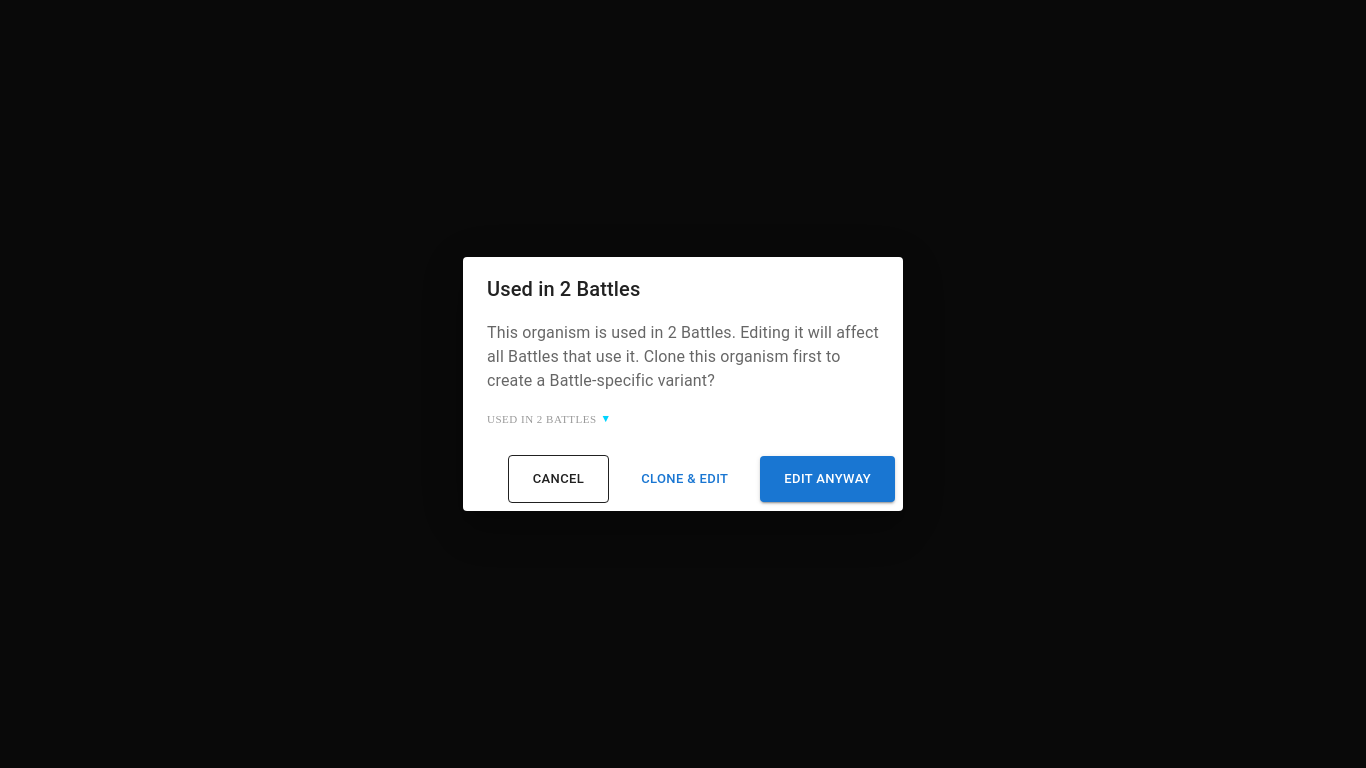
Test case: OrganismInUseDialog — the expandable count (Story 4.24, AC6, FR-1.7, M7) › library: the battle disclosure lists the names behind N, read-only
This screenshot has width=1366, height=768.
Click the button "Used in 2 Battles ▾" at coordinates (548, 419), box [487,412,609,425]
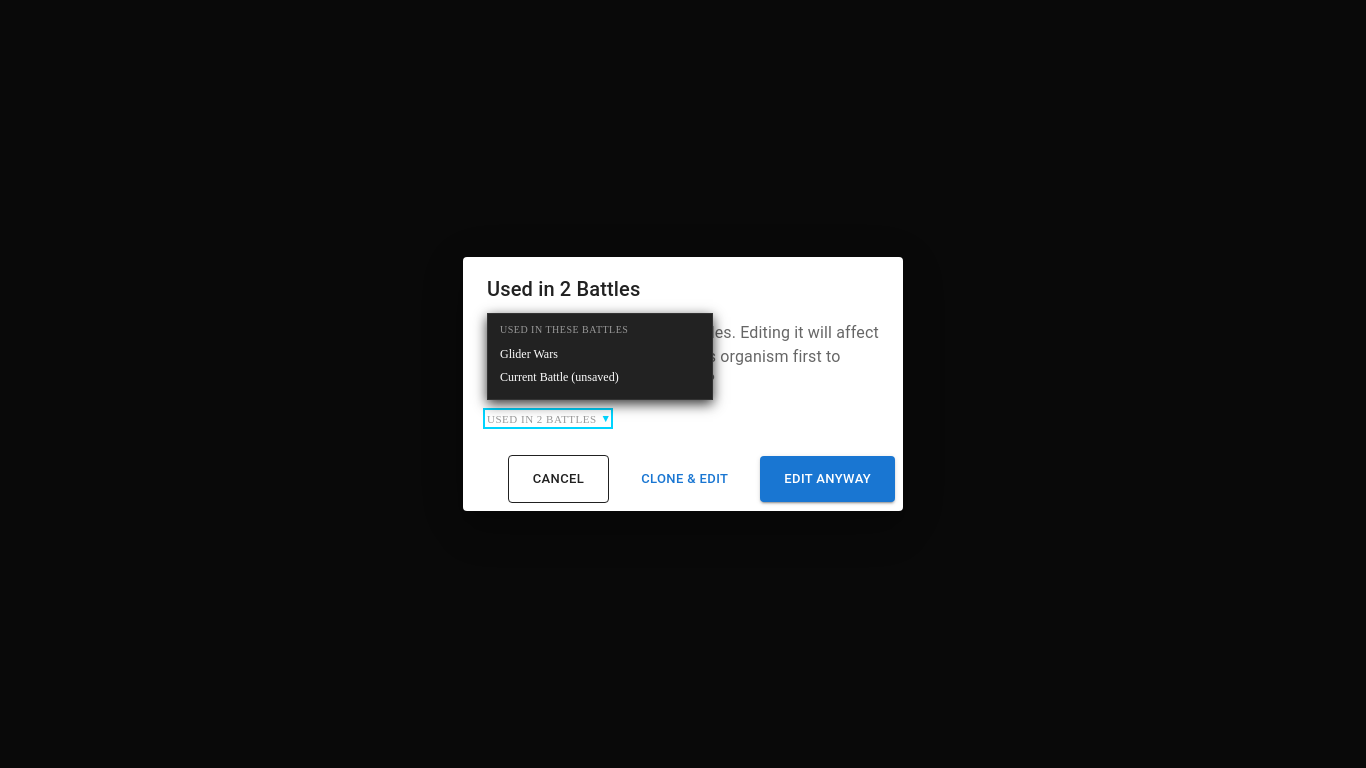
Result: the list items read "Glider Wars", "Current Battle (unsaved)", in this order at [500,347,558,361]; [500,370,619,384]
